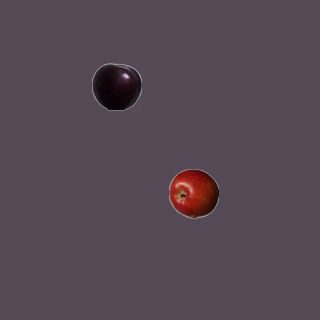Apple Braeburn: (168, 168, 218, 218)
Cherry Wax Black: (91, 61, 141, 111)
